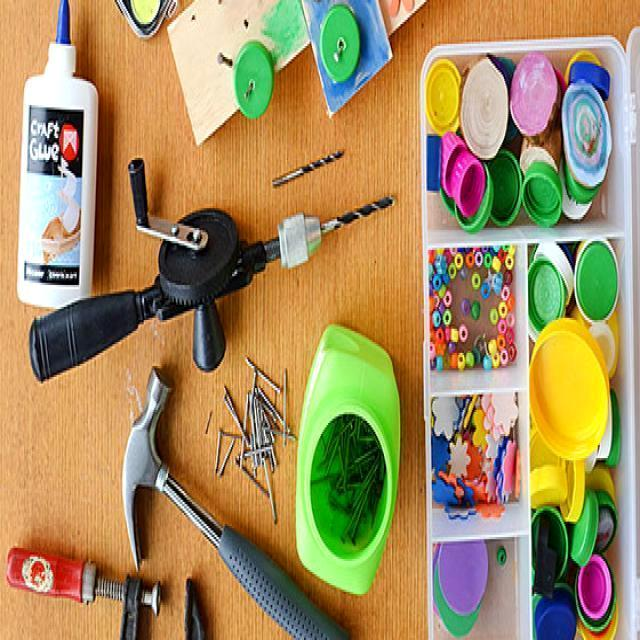hammer: (122, 364, 348, 640)
